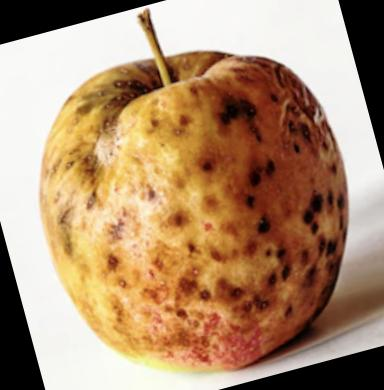Banana: (52, 56, 345, 372)
